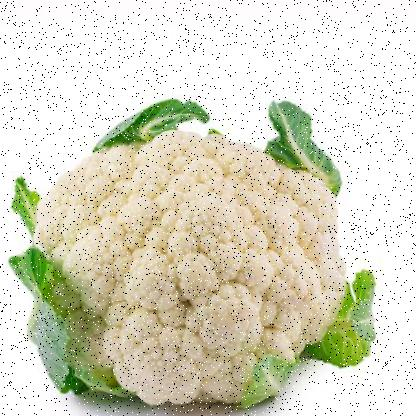cauliflower: (21, 136, 357, 400)
